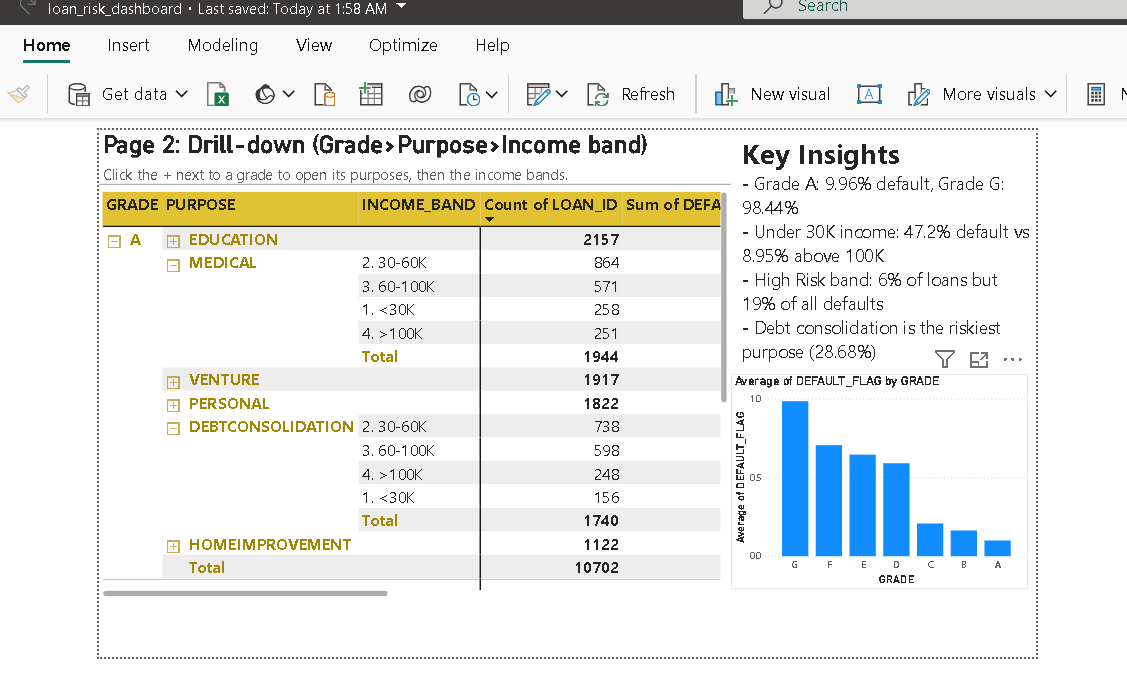

This screenshot's page, from the dashboard's own definition file:
{"tool":"powerbi","page":{"name":"Page 2","canvas":[1280,720],"ordinal":1},"visuals":[{"type":"pivotTable","title":"Page 2: Drill-down (Grade>Purpose>Income band)","fields":{"Rows":["final_loan_risk_analysis.GRADE","final_loan_risk_analysis.PURPOSE","final_loan_risk_analysis.INCOME_BAND"],"Values":["CountNonNull(final_loan_risk_analysis.LOAN_ID)","Sum(final_loan_risk_analysis.DEFAULT_FLAG)","Avg(final_loan_risk_analysis.DEFAULT_FLAG)"]},"box":[0,0,863.3,641.7],"z":0},{"type":"textbox","box":[873.3,0,406.7,348.3],"z":1},{"type":"clusteredColumnChart","fields":{"Category":["final_loan_risk_analysis.GRADE"],"Y":["Avg(final_loan_risk_analysis.DEFAULT_FLAG)"]},"box":[863.3,333.3,406.7,293.3],"z":2}]}

Visuals, with their boxes on the page's 1280x720 design canvas (x1, y1, x2, y2). These are canvas units, not pixel positions in the 1127x678 screenshot, which may show the page scaled, cropped or inside an application window:
"Page 2: Drill-down (Grade>Purpose>Income band)" pivotTable: select_region(0, 0, 863, 642)
textbox: select_region(873, 0, 1280, 348)
clusteredColumnChart - final_loan_risk_analysis.GRADE x Avg(final_loan_risk_analysis.DEFAULT_FLAG): select_region(863, 333, 1270, 627)
